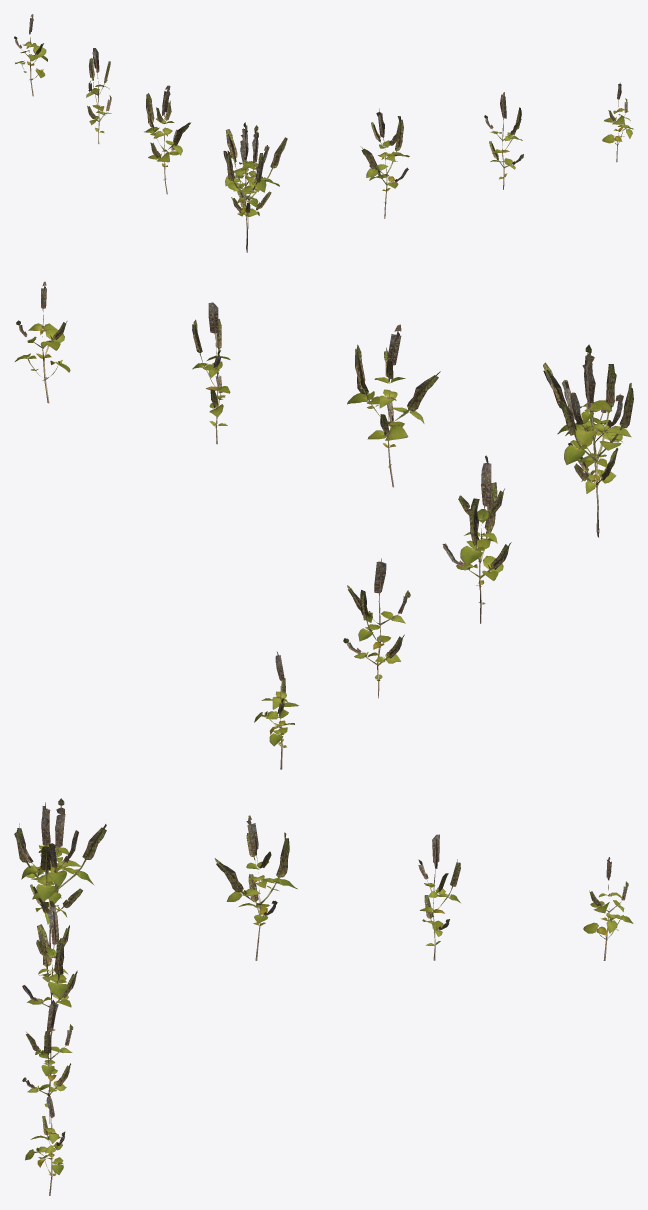
Rendered from temperate-shrub-cluster-lod2.glb.
The picture shows the model from 3 angles, top to bottom: view 1: azimuth 30°, elevation 25°; view 2: azimuth 150°, elevation 25°; view 3: azimuth 270°, elevation 25°; orthographic projection. The views are drawn at different scales.
Parts seen in each view (by area): view 1: shrub_03_a, shrub_03_a-crossed; view 2: shrub_03_a-crossed, shrub_03_a; view 3: shrub_03_a-crossed, shrub_03_a.
Boxes of the visible parts, x1,y1,x2,y2 form: shrub_03_a: [226, 82, 633, 252]; shrub_03_a-crossed: [14, 14, 269, 252]; shrub_03_a-crossed: [254, 353, 631, 769]; shrub_03_a: [15, 281, 633, 537]; shrub_03_a-crossed: [16, 798, 633, 960]; shrub_03_a: [14, 802, 80, 1195].
Bounding box in the file's own units: 2.19 × 0.6445 × 2.19.
Materials: 1 (1 with a texture image).
